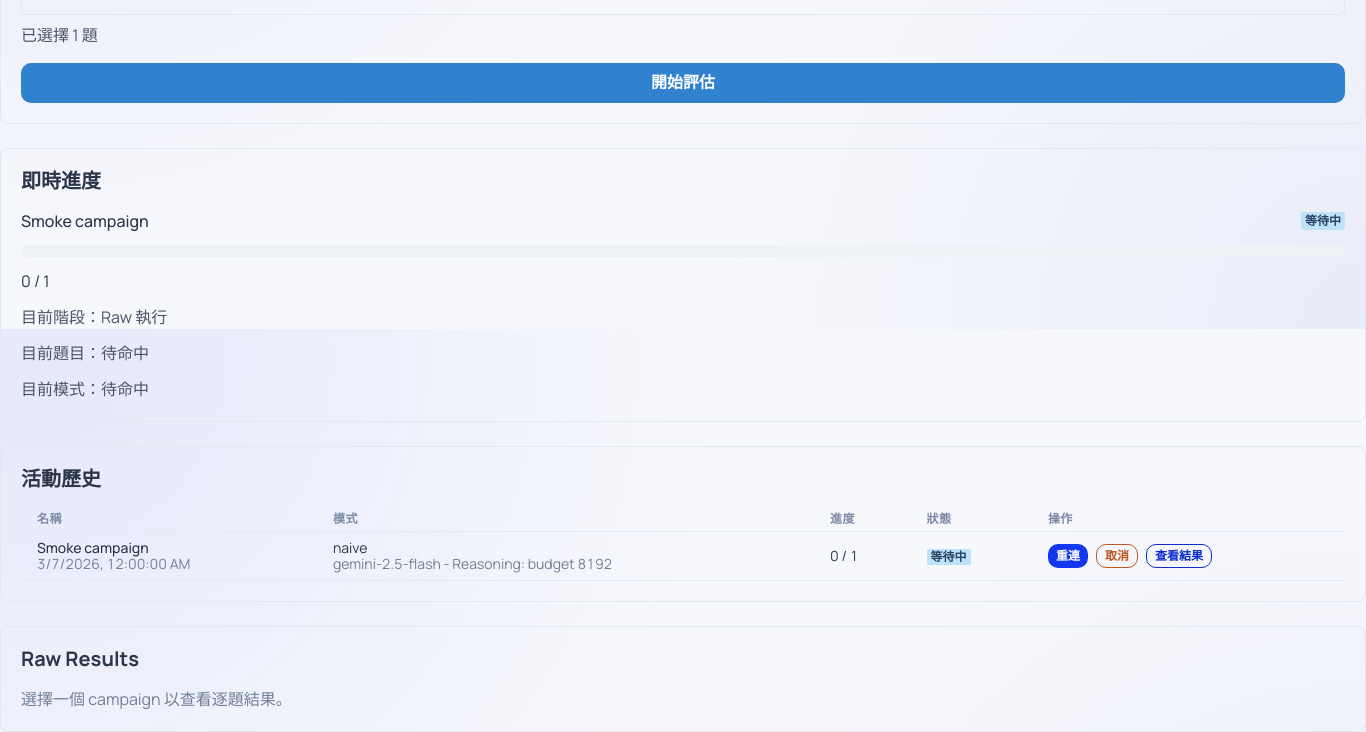
it: CampaignRunner › shows model reasoning settings in setup, history, and raw result summaries
The width and height of the screenshot is (1366, 732).
(page scrolled)
Click the button "查看結果". click: {"x": 1179, "y": 556}
box: [1146, 544, 1212, 568]
(page scrolled)
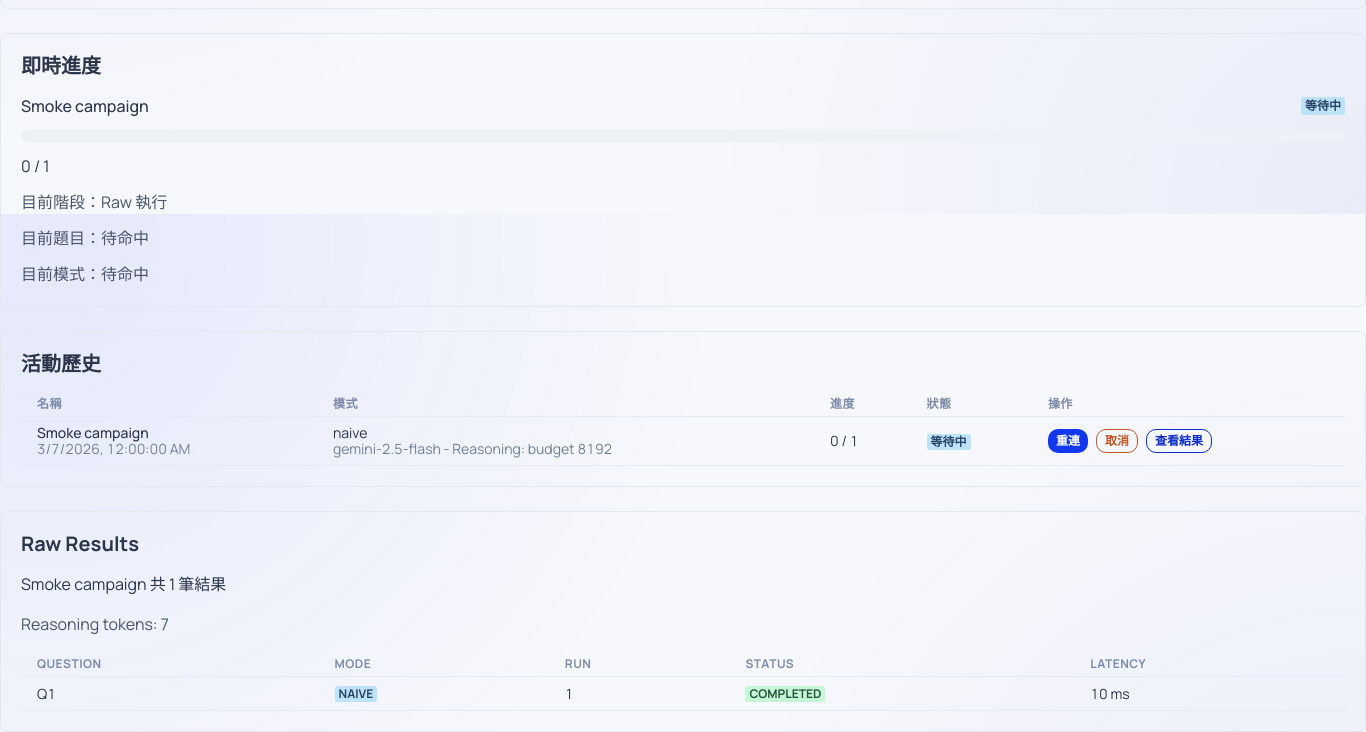
Now the text "Reasoning tokens: 7" is shown, box [21, 613, 169, 635]
